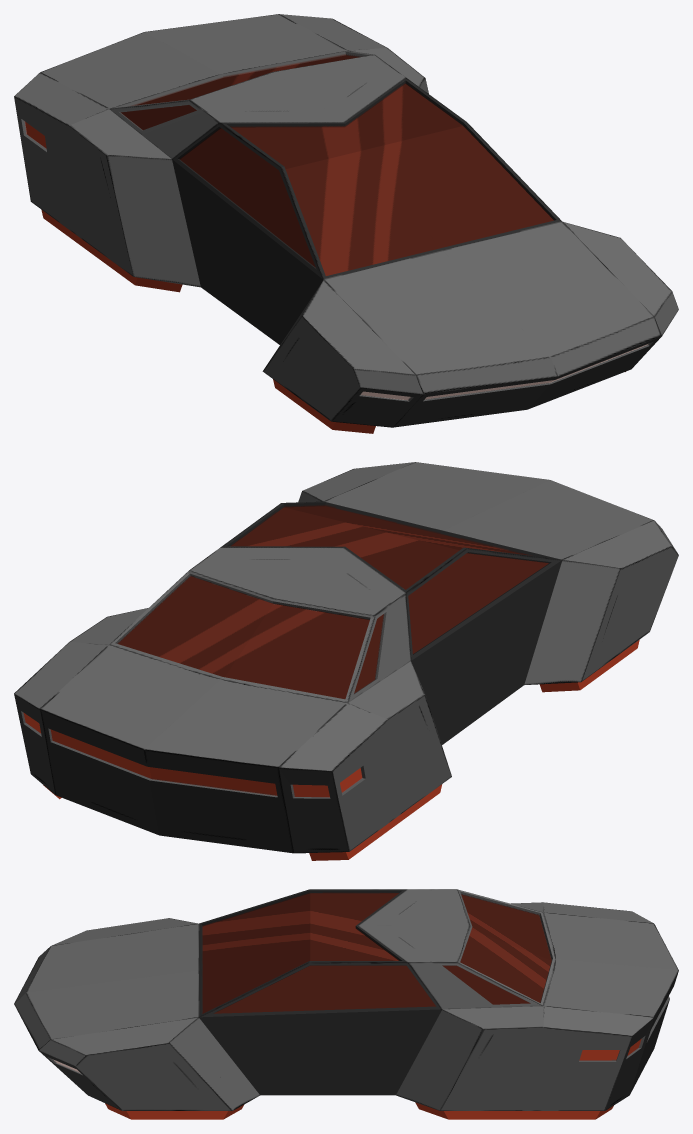
File: flycar.fbx
The picture shows the model from 3 angles, top to bottom: view 1: azimuth 30°, elevation 25°; view 2: azimuth 150°, elevation 25°; view 3: azimuth 270°, elevation 25°; orthographic projection. The views are drawn at different scales.
Parts seen in each view (by area): view 1: flycar; view 2: flycar; view 3: flycar.
Part boxes in pixels (box(x1,y1,x2,y2)): flycar: box(14, 14, 678, 433); flycar: box(14, 462, 678, 860); flycar: box(14, 889, 678, 1119).
Bounding box in the file's own units: 240 × 120 × 540.
